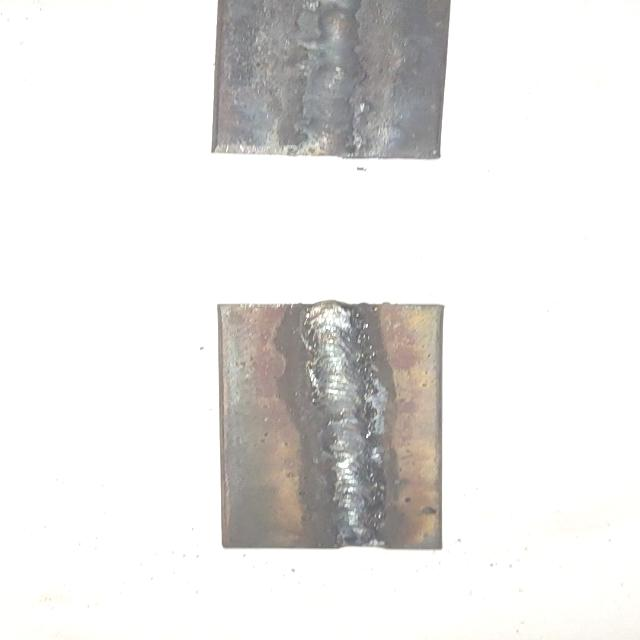Good Weld: (308, 307, 386, 545), (306, 0, 362, 151)
